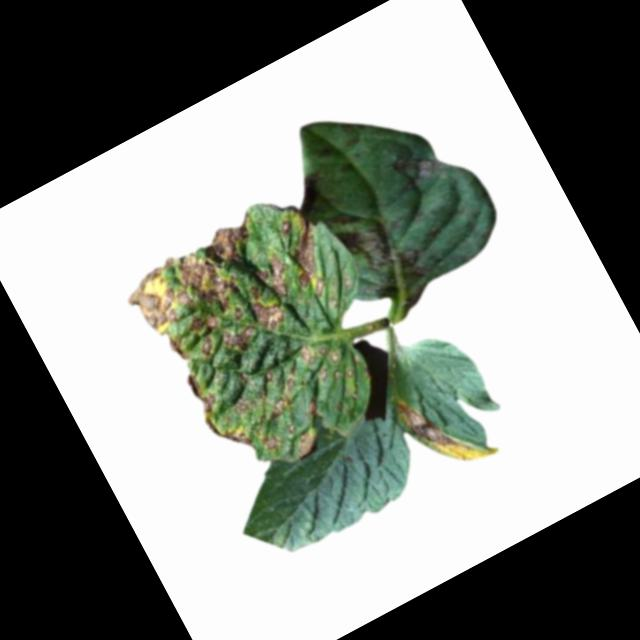Early_blight: (115, 184, 405, 496), (390, 369, 502, 488), (334, 200, 433, 308), (383, 132, 449, 198), (288, 171, 333, 217)
